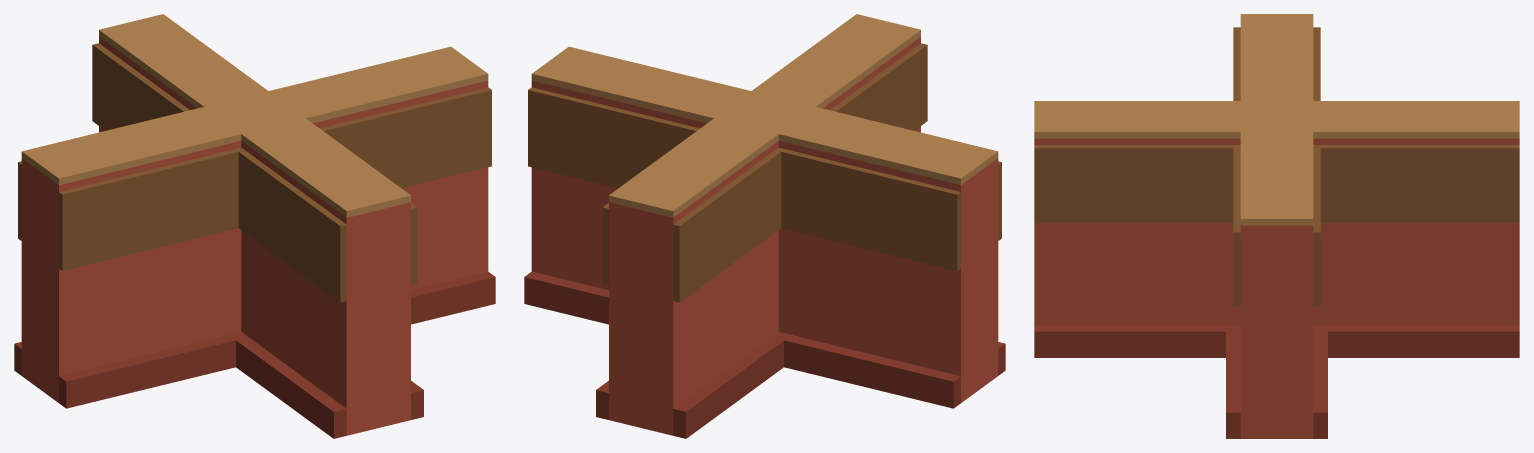
The model's file is partition-cross.glb.
The picture shows the model from 3 angles, left to right: view 1: azimuth 30°, elevation 25°; view 2: azimuth 150°, elevation 25°; view 3: azimuth 270°, elevation 25°; orthographic projection. The views are drawn at different scales.
Parts seen in each view (by area): view 1: partition-cross; view 2: partition-cross; view 3: partition-cross.
Part boxes in pixels (x1,y1,x2,y2): partition-cross: (14, 14, 495, 438); partition-cross: (524, 14, 1005, 438); partition-cross: (1034, 14, 1519, 438).
Bounding box in the file's own units: 1 × 0.5 × 1.
1 material, 1 textured.
